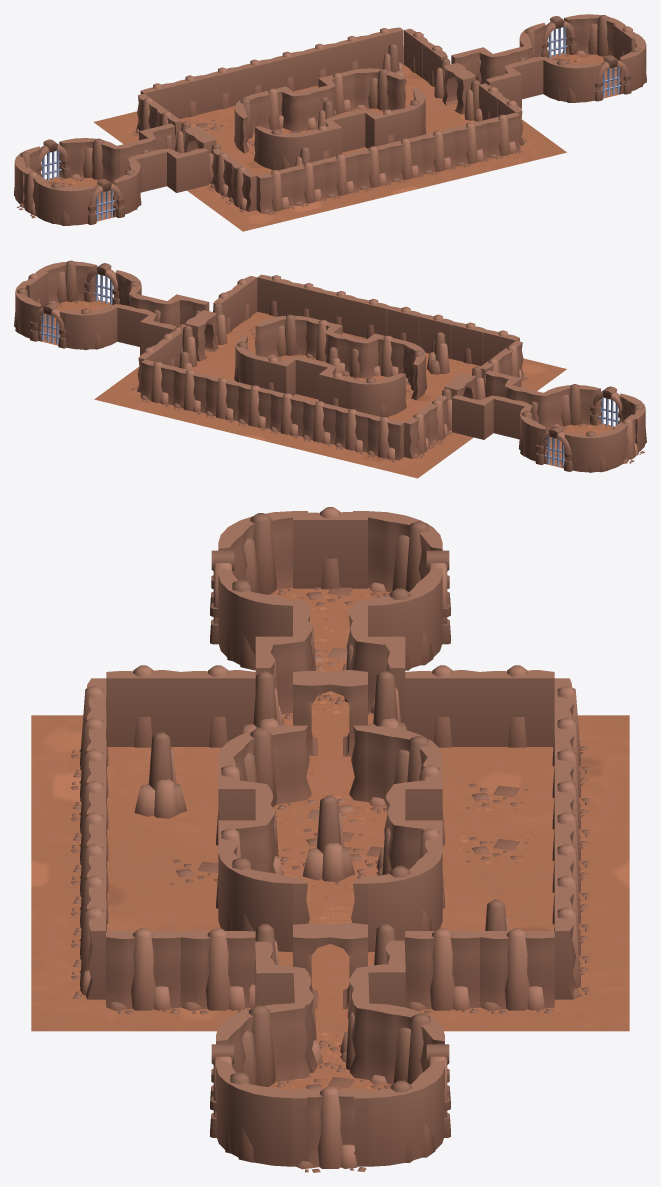
File: map.glb
The picture shows the model from 3 angles, top to bottom: view 1: azimuth 30°, elevation 25°; view 2: azimuth 150°, elevation 25°; view 3: azimuth 270°, elevation 25°; orthographic projection. The views are drawn at different scales.
Parts seen in each view (by area): view 1: room-wide-variation, template-floor, room-small.001, room-small, corridor-transition, corridor-transition.001, template-wall-detail-a.015, template-wall-detail-a.019, template-wall-detail-a.013, template-wall-detail-a.017, template-wall-detail-a.018, template-wall-detail-a.014 (+34 smaller); view 2: room-wide-variation, template-floor, room-small.001, room-small, corridor-transition, corridor-transition.001, template-wall-detail-a.005, template-wall-detail-a, template-wall-detail-a.003, template-wall-detail-a.007, template-wall-detail-a.002, template-wall-detail-a.004 (+33 smaller); view 3: template-floor, room-wide-variation, room-small, room-small.001, corridor-transition, corridor-transition.001, template-wall-detail-a.023, template-wall-detail-a.021, template-wall-detail-a.024, template-wall-detail-a.022, template-wall-detail-a.008, template-wall-detail-a.025 (+30 smaller).
Part boxes in pixels (left/top/right/bottom): room-wide-variation: left=234, top=68, right=426, bottom=170; template-floor: left=93, top=46, right=566, bottom=231; room-small.001: left=14, top=138, right=141, bottom=225; room-small: left=519, top=14, right=646, bottom=102; corridor-transition: left=117, top=123, right=208, bottom=192; corridor-transition.001: left=451, top=46, right=543, bottom=108; template-wall-detail-a.015: left=256, top=168, right=295, bottom=214; template-wall-detail-a.019: left=451, top=120, right=490, bottom=167; template-wall-detail-a.013: left=289, top=160, right=327, bottom=206; template-wall-detail-a.017: left=387, top=136, right=425, bottom=183; template-wall-detail-a.018: left=419, top=128, right=457, bottom=175; template-wall-detail-a.014: left=322, top=152, right=360, bottom=198; room-wide-variation: left=234, top=314, right=426, bottom=417; template-floor: left=94, top=311, right=566, bottom=478; room-small.001: left=519, top=384, right=646, bottom=472; room-small: left=14, top=260, right=141, bottom=349; corridor-transition: left=452, top=370, right=544, bottom=439; corridor-transition.001: left=117, top=293, right=209, bottom=355; template-wall-detail-a.005: left=367, top=415, right=403, bottom=462; template-wall-detail-a: left=237, top=383, right=273, bottom=430; template-wall-detail-a.003: left=205, top=375, right=241, bottom=422; template-wall-detail-a.007: left=334, top=407, right=371, bottom=454; template-wall-detail-a.002: left=173, top=367, right=209, bottom=415; template-wall-detail-a.004: left=140, top=359, right=176, bottom=407; template-floor: left=31, top=715, right=629, bottom=1031; room-wide-variation: left=216, top=725, right=444, bottom=952; room-small: left=216, top=1003, right=444, bottom=1166; room-small.001: left=218, top=511, right=442, bottom=671; corridor-transition: left=255, top=605, right=405, bottom=736; corridor-transition.001: left=255, top=940, right=405, bottom=1072; template-wall-detail-a.023: left=480, top=928, right=554, bottom=1014; template-wall-detail-a.021: left=106, top=928, right=180, bottom=1014; template-wall-detail-a.024: left=405, top=928, right=479, bottom=1014; template-wall-detail-a.022: left=180, top=928, right=255, bottom=1014; template-wall-detail-a.008: left=480, top=665, right=554, bottom=747; template-wall-detail-a.025: left=293, top=507, right=367, bottom=589.
Bounding box in the file's own units: 75.89 × 4.4 × 32.
52 materials, 52 textured.
